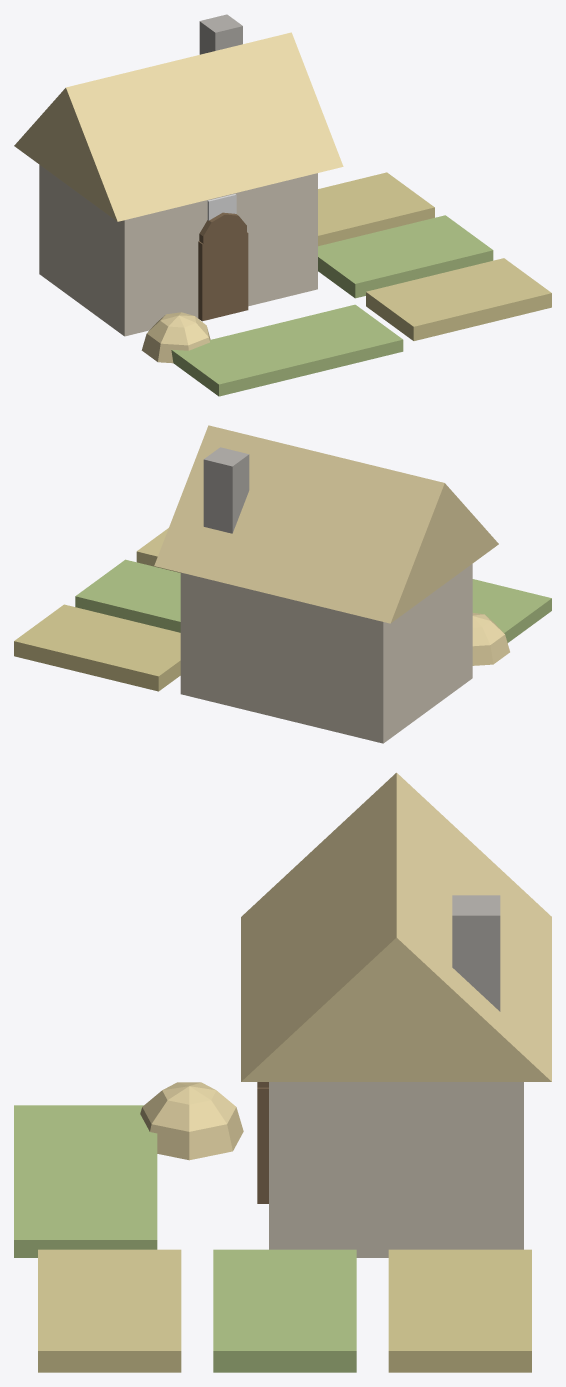
3 renders of one model, top to bottom at view 1: azimuth 30°, elevation 25°; view 2: azimuth 150°, elevation 25°; view 3: azimuth 270°, elevation 25°, orthographic. The views are drawn at different scales.
Visible parts, largest first — view 1: body; view 2: body; view 3: body.
Boxes of the visible parts, left/top/right/bottom form: body: left=14, top=14, right=551, bottom=396; body: left=14, top=425, right=551, bottom=743; body: left=14, top=772, right=551, bottom=1372.
Size of the model in its own units: 7.95 by 4.6 by 6.75.
